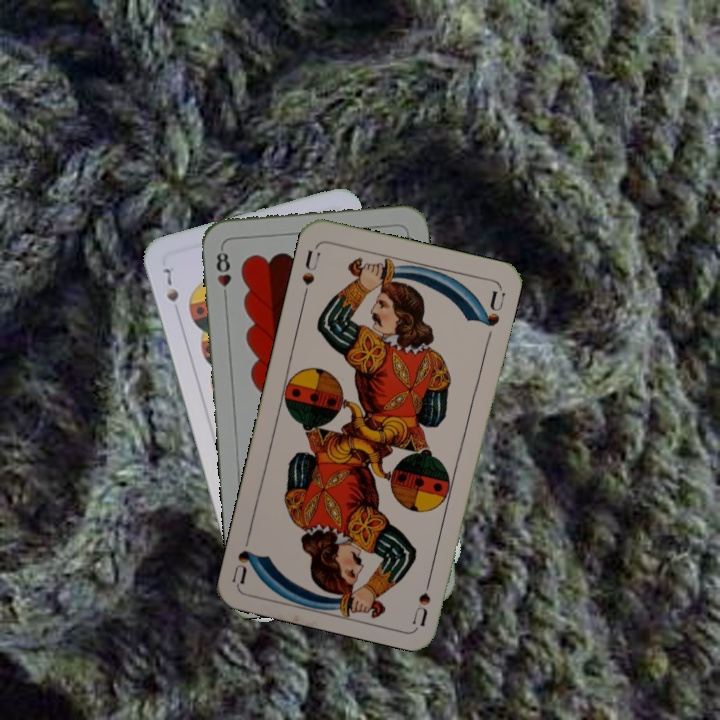H8: (212, 244, 234, 303)
S7: (160, 263, 182, 305)
SU: (408, 568, 435, 627), (297, 246, 323, 301)
